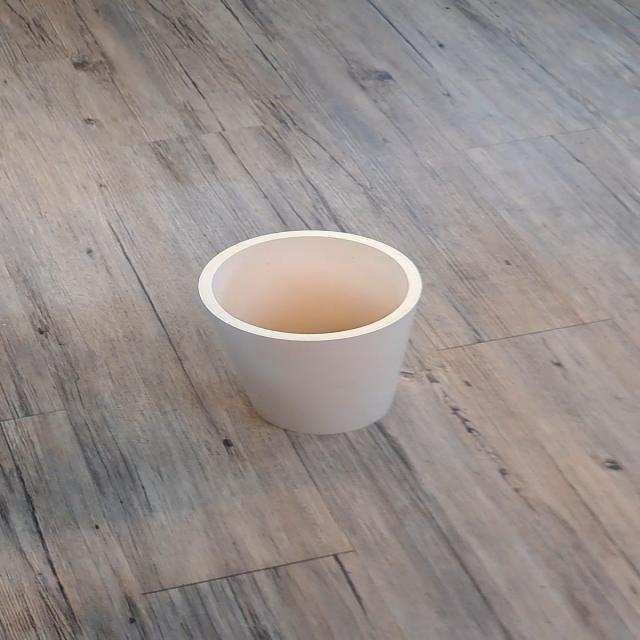CORAL: (154, 204, 476, 445)
